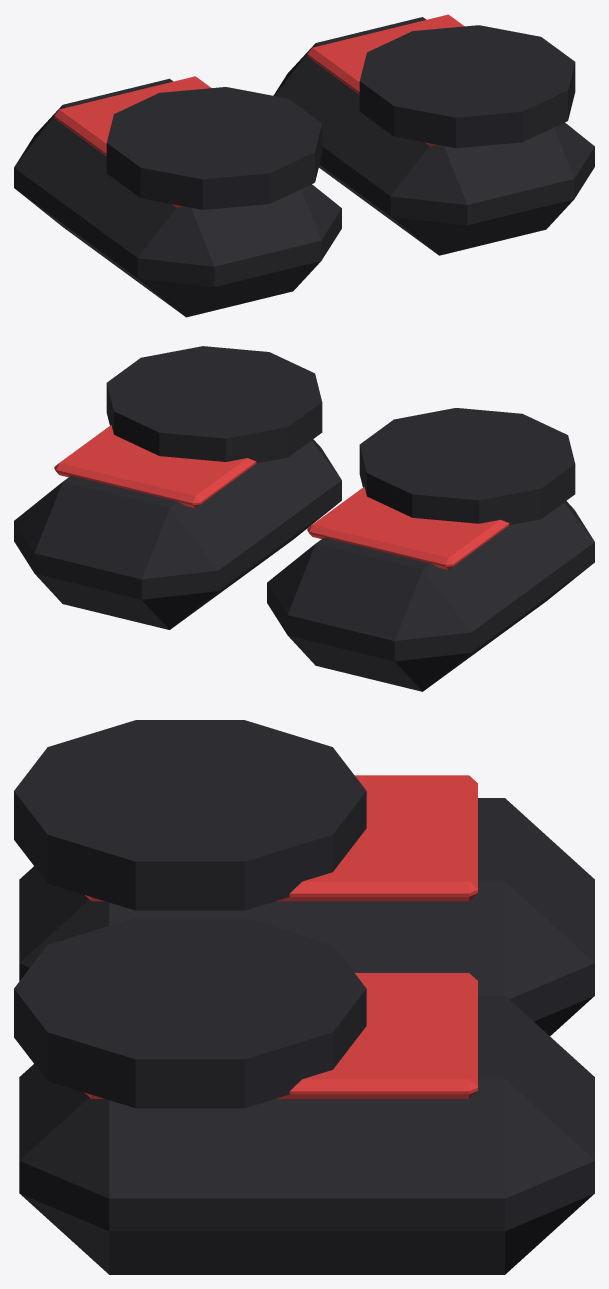
The model's file is shoes_galoshi.glb.
3 renders of one model, top to bottom at view 1: azimuth 30°, elevation 25°; view 2: azimuth 150°, elevation 25°; view 3: azimuth 270°, elevation 25°, orthographic. The views are drawn at different scales.
Parts seen in each view (by area): view 1: LegL, LegR; view 2: LegL, LegR; view 3: LegR, LegL.
Boxes of the visible parts, <box> form: LegL: <box>14,76,341,317</box>; LegR: <box>273,14,594,255</box>; LegL: <box>267,408,594,691</box>; LegR: <box>14,346,341,629</box>; LegR: <box>14,917,594,1274</box>; LegL: <box>14,720,594,1035</box>.
Size of the model in its own units: 0.47 by 0.15 by 0.323.
